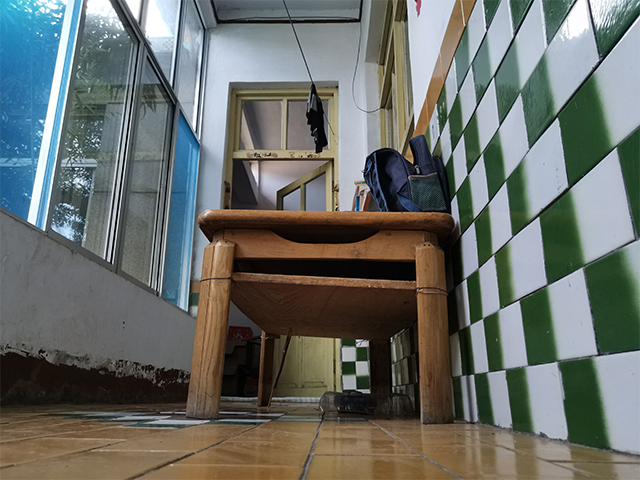table: (184, 207, 460, 425)
